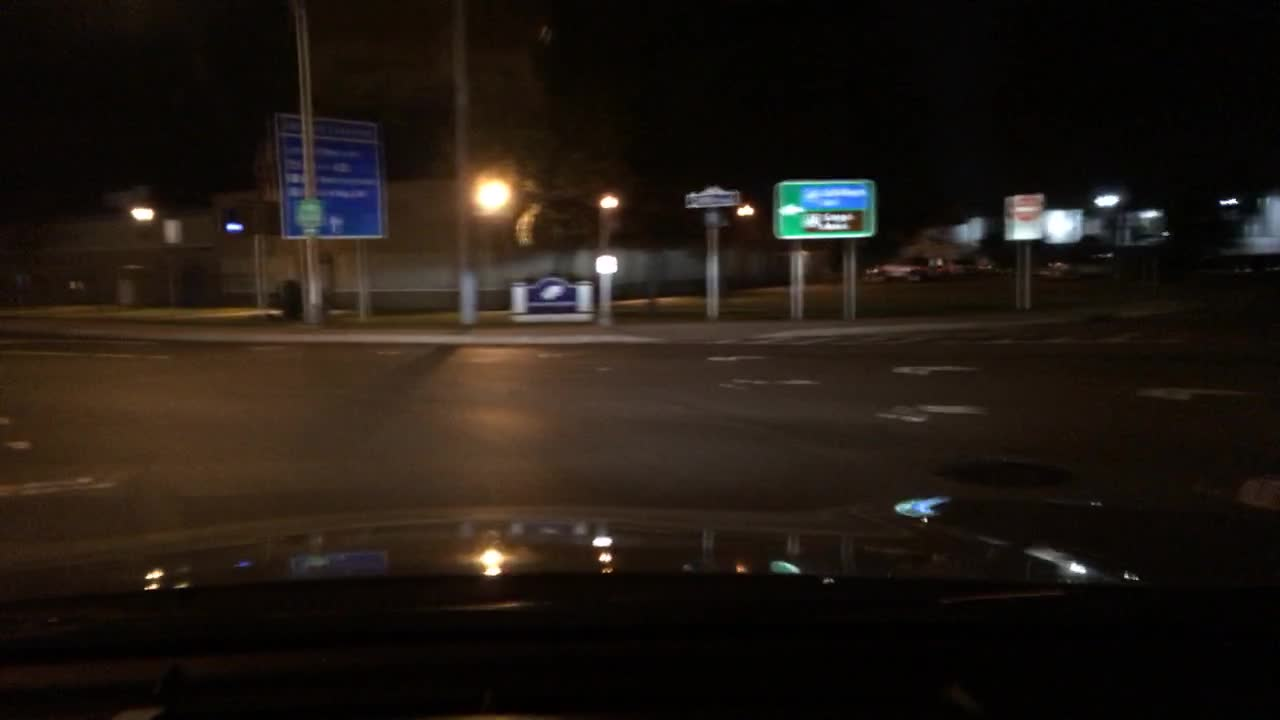car: (1038, 239, 1160, 280), (860, 254, 943, 284), (935, 253, 996, 278)
traffic sign: (273, 111, 388, 242), (772, 178, 875, 240), (1005, 192, 1045, 239), (685, 188, 742, 212), (293, 198, 324, 228)
